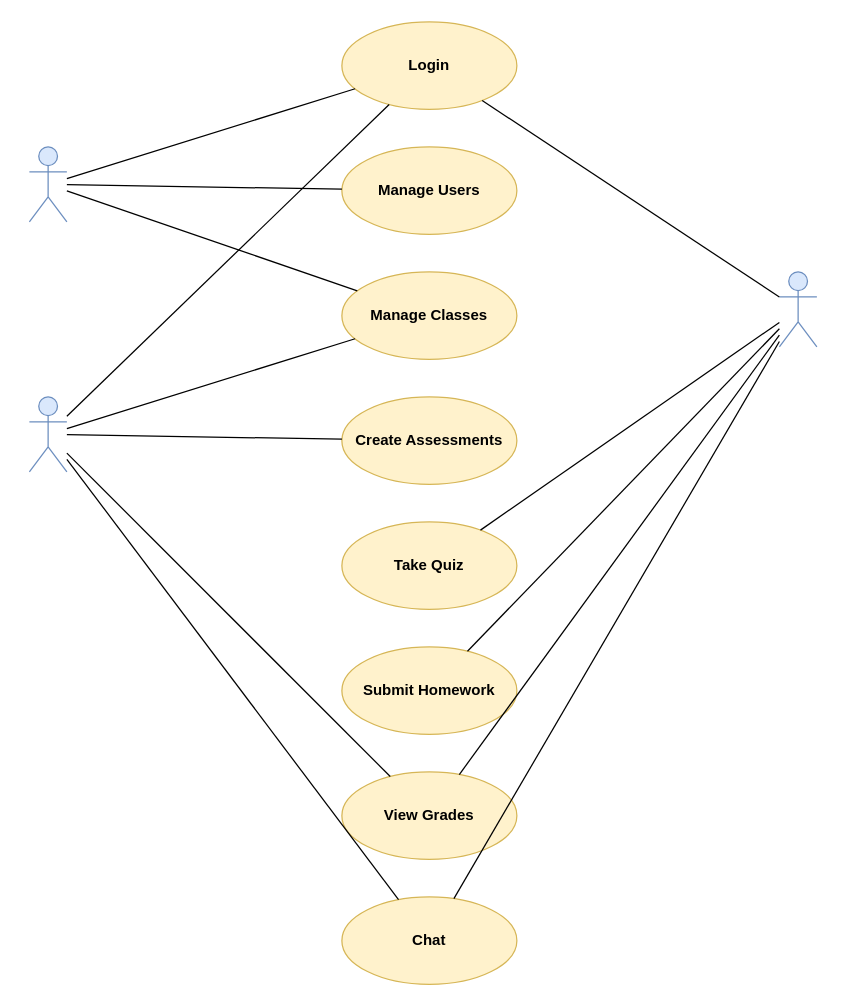
The diagram is 845 pixels wide and 1006 high, and some of its shapes have lost their labels. Each missing label, with the box of its shape:
Admin: (28, 146, 67, 222)
Student: (778, 271, 817, 347)
Teacher: (28, 396, 67, 472)
